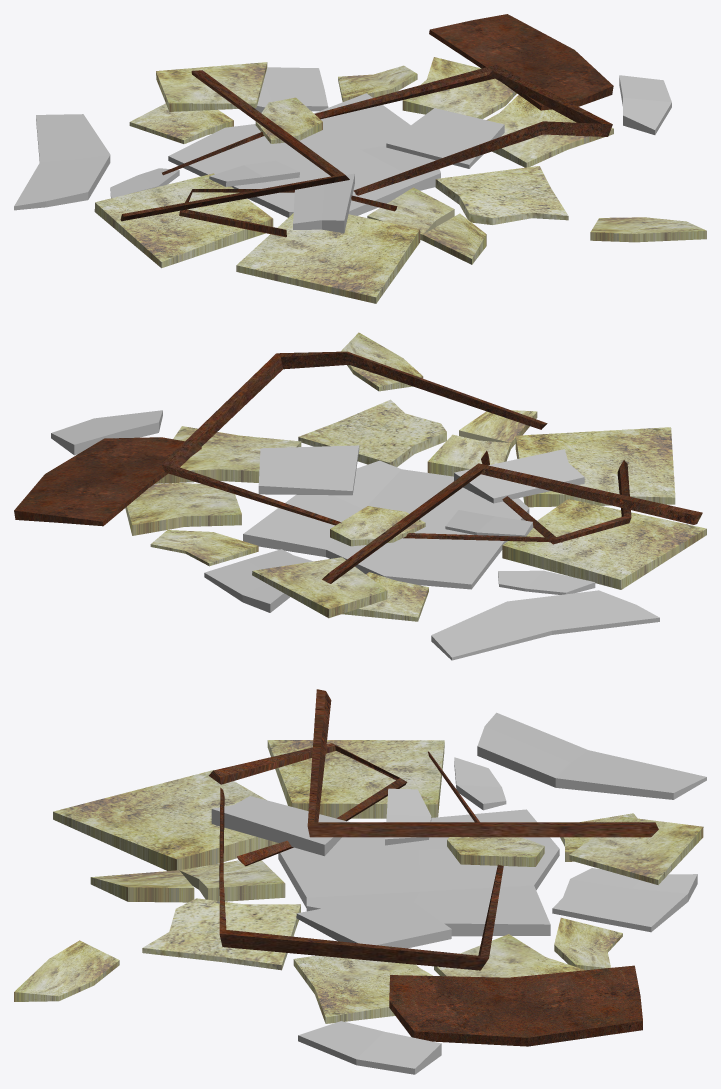
File: entulho3.fbx
The picture shows the model from 3 angles, top to bottom: view 1: azimuth 30°, elevation 25°; view 2: azimuth 150°, elevation 25°; view 3: azimuth 270°, elevation 25°; orthographic projection. The views are drawn at different scales.
Visible parts, largest first — view 1: Plane.010; view 2: Plane.010; view 3: Plane.010.
Part boxes in pixels (x1,y1,x2,y2): Plane.010: (14, 14, 706, 303); Plane.010: (14, 332, 706, 660); Plane.010: (14, 689, 706, 1074).
Size of the model in its own units: 250 by 28.64 by 205.
